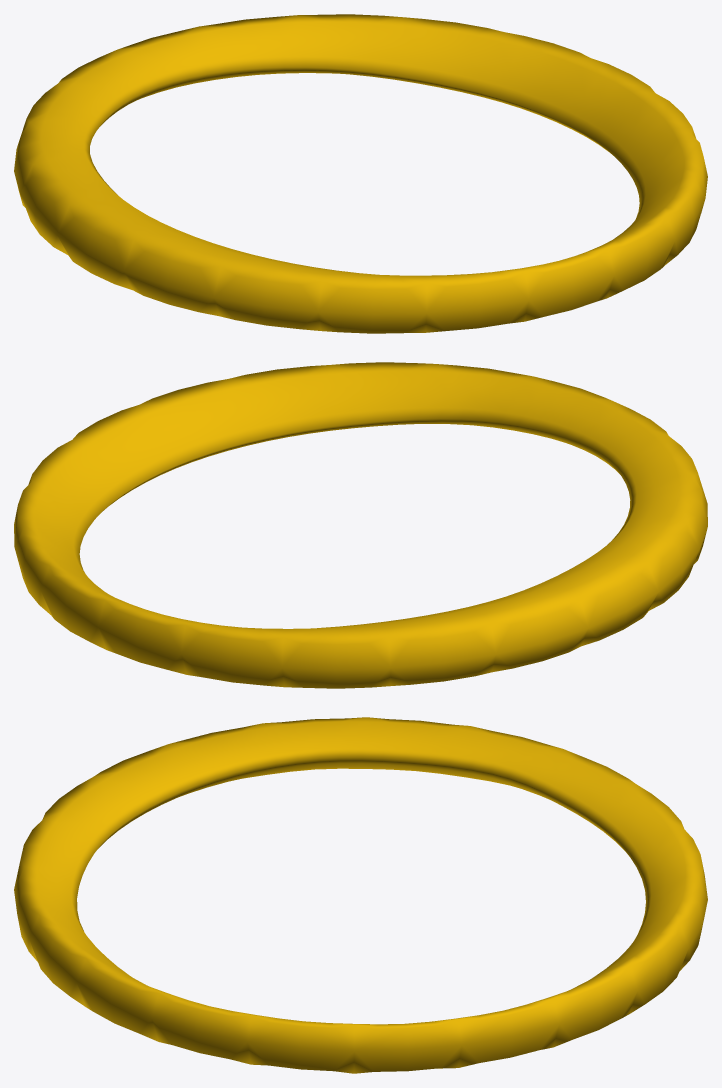
Rendered from ring.fbx.
The picture shows the model from 3 angles, top to bottom: view 1: azimuth 30°, elevation 25°; view 2: azimuth 150°, elevation 25°; view 3: azimuth 270°, elevation 25°; orthographic projection.
Parts seen in each view (by area): view 1: pPipe1; view 2: pPipe1; view 3: pPipe1.
Part boxes in pixels (bbox=[...]): pPipe1: bbox=[14, 14, 707, 333]; pPipe1: bbox=[14, 362, 707, 688]; pPipe1: bbox=[14, 717, 707, 1073].
Size of the model in its own units: 9.87 by 1.26 by 9.87.
